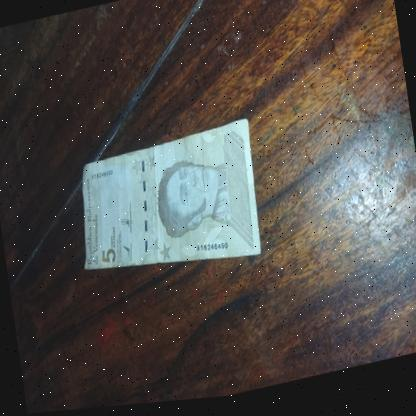five-front-vef: (66, 120, 266, 295)
